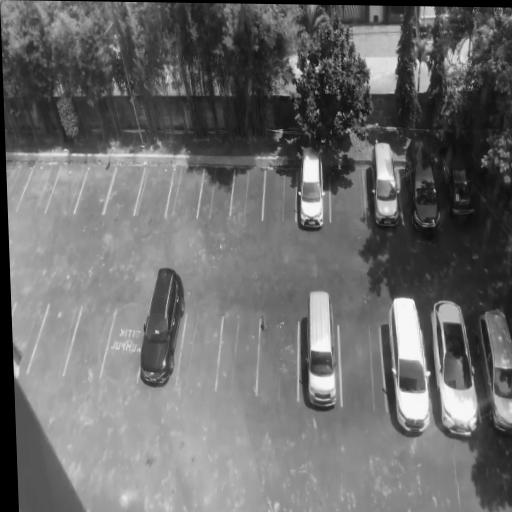Car: (428, 298, 482, 436), (383, 293, 433, 439), (135, 262, 186, 390), (473, 302, 512, 435), (404, 136, 445, 236), (432, 137, 480, 221), (308, 288, 338, 408), (367, 143, 402, 229), (298, 143, 324, 233)
Space Available: (338, 327, 385, 416), (26, 305, 82, 375), (176, 311, 223, 388), (64, 308, 114, 377), (256, 319, 299, 399), (217, 315, 260, 393), (100, 309, 145, 378), (12, 302, 48, 370), (328, 165, 365, 225), (44, 166, 89, 215), (103, 167, 143, 220), (18, 163, 60, 213), (134, 168, 175, 218), (165, 167, 203, 218), (74, 167, 115, 214), (196, 169, 234, 219), (230, 170, 266, 221), (262, 171, 296, 224), (7, 163, 33, 208)
